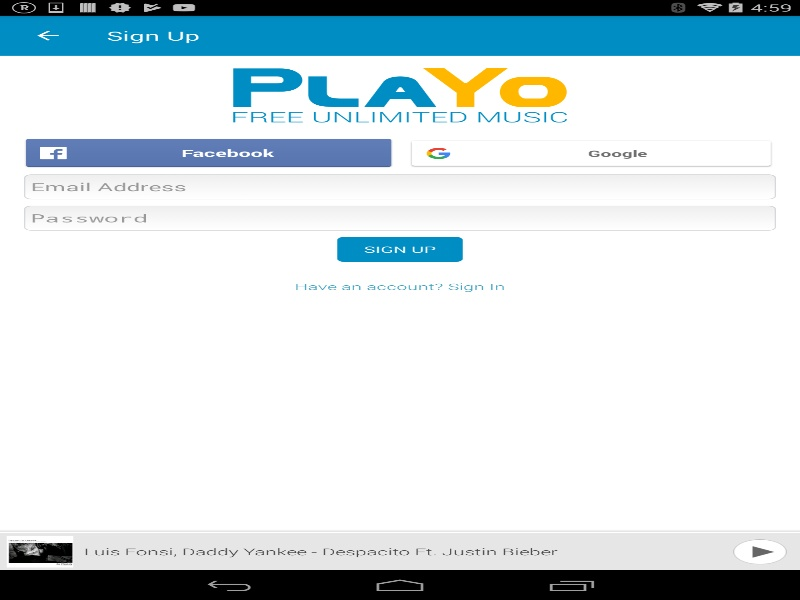Button: (406, 138, 776, 168), (24, 138, 393, 168), (337, 236, 462, 261), (10, 15, 85, 55), (6, 536, 73, 567), (733, 539, 786, 564), (13, 540, 46, 556)
Input: (24, 174, 776, 199), (24, 205, 776, 230)
